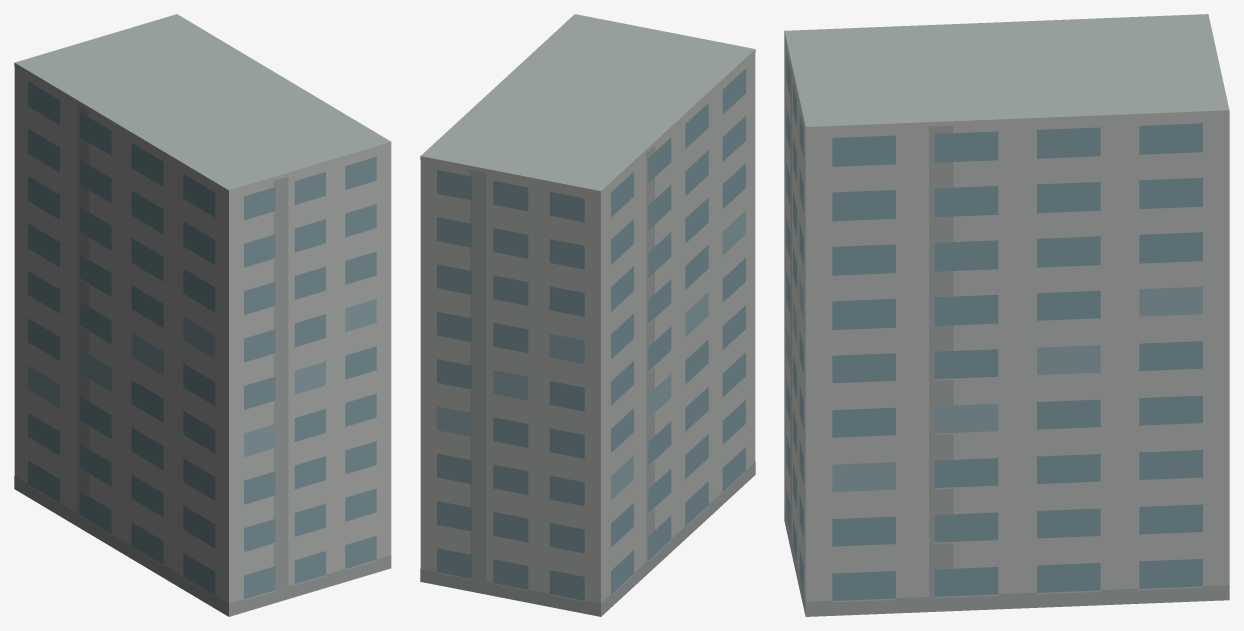
Rendered from residential-d3fce9b7-6f4d-431a-8371-57a13677d991.glb.
3 views of the same model, side by side, from view 1: azimuth 30°, elevation 25°; view 2: azimuth 150°, elevation 25°; view 3: azimuth 270°, elevation 25° (orthographic). The views are drawn at different scales.
Parts seen in each view (by area): view 1: residential-d3fce9b7-6f4d-431a-8371-57a13677d991.tmp; view 2: residential-d3fce9b7-6f4d-431a-8371-57a13677d991.tmp; view 3: residential-d3fce9b7-6f4d-431a-8371-57a13677d991.tmp.
Part boxes in pixels (<box>): residential-d3fce9b7-6f4d-431a-8371-57a13677d991.tmp: <box>14,14,391,616</box>; residential-d3fce9b7-6f4d-431a-8371-57a13677d991.tmp: <box>420,14,755,616</box>; residential-d3fce9b7-6f4d-431a-8371-57a13677d991.tmp: <box>784,14,1229,616</box>.
Bounding box in the file's own units: 12.87 × 26 × 21.42.
